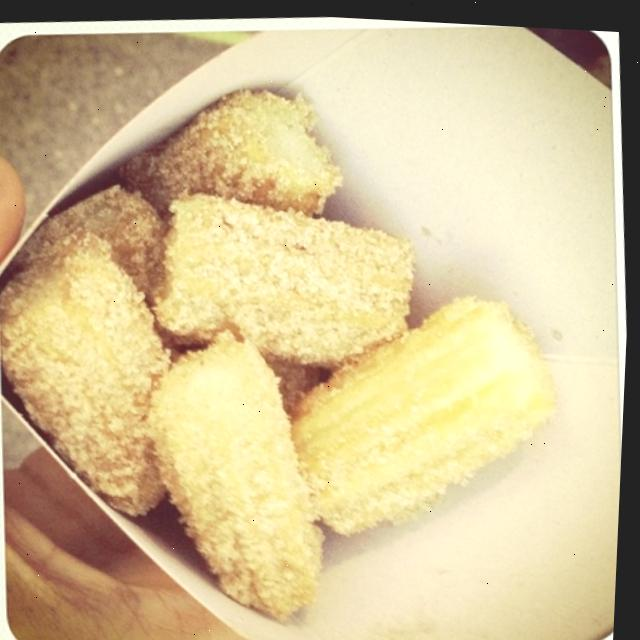炸货点心: (0, 12, 616, 640)
